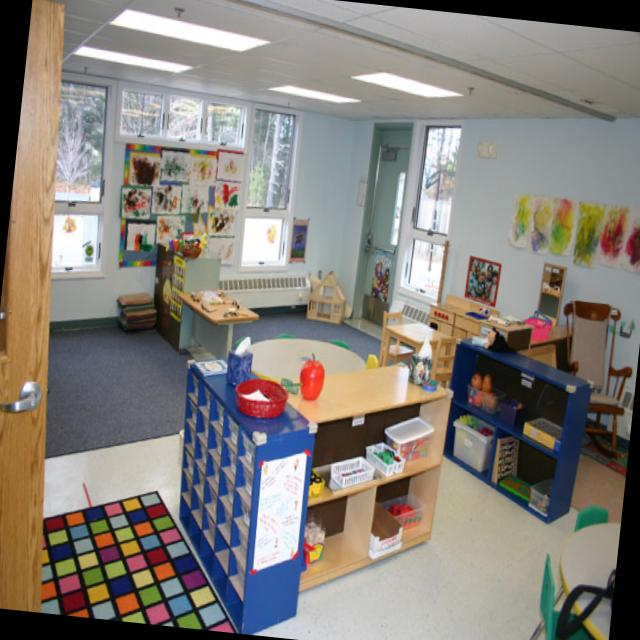2001: (53, 80, 108, 269), (401, 124, 459, 303), (245, 107, 293, 207), (117, 85, 163, 136), (165, 91, 203, 140), (204, 99, 240, 144)
basket crop: (452, 413, 495, 470), (234, 375, 286, 416), (329, 453, 373, 487)
box contants: (383, 418, 433, 461)
ceiling beam: (51, 0, 640, 120)
chair part: (528, 550, 599, 640)
door bars: (0, 0, 64, 609)
door opening: (357, 145, 407, 322)
drawing: (570, 200, 604, 265), (548, 195, 575, 255), (506, 189, 531, 247), (527, 192, 551, 252), (126, 149, 159, 182), (158, 147, 190, 180), (370, 251, 391, 301), (123, 220, 154, 253), (121, 187, 150, 217), (215, 149, 243, 180), (180, 183, 207, 214)
floor -X: (40, 313, 627, 640)
furniture crop: (148, 234, 256, 358)
lamp crop: (109, 8, 266, 49), (72, 43, 191, 72), (350, 70, 462, 96), (269, 82, 359, 101)
photo frame: (462, 254, 501, 303)
radidator: (217, 262, 308, 307)
rocking chair: (562, 300, 631, 456)
rug -partially obscured-: (39, 487, 234, 630)
shelves crop: (273, 363, 449, 591), (443, 335, 591, 521)
stand clothes: (177, 356, 316, 632)
table lamp: (557, 519, 619, 640)
table runner: (244, 334, 369, 380), (380, 317, 453, 370)
toy crio: (305, 268, 346, 322)
toys: (466, 369, 503, 411)
wall clock: (334, 114, 640, 437), (49, 66, 352, 331)
